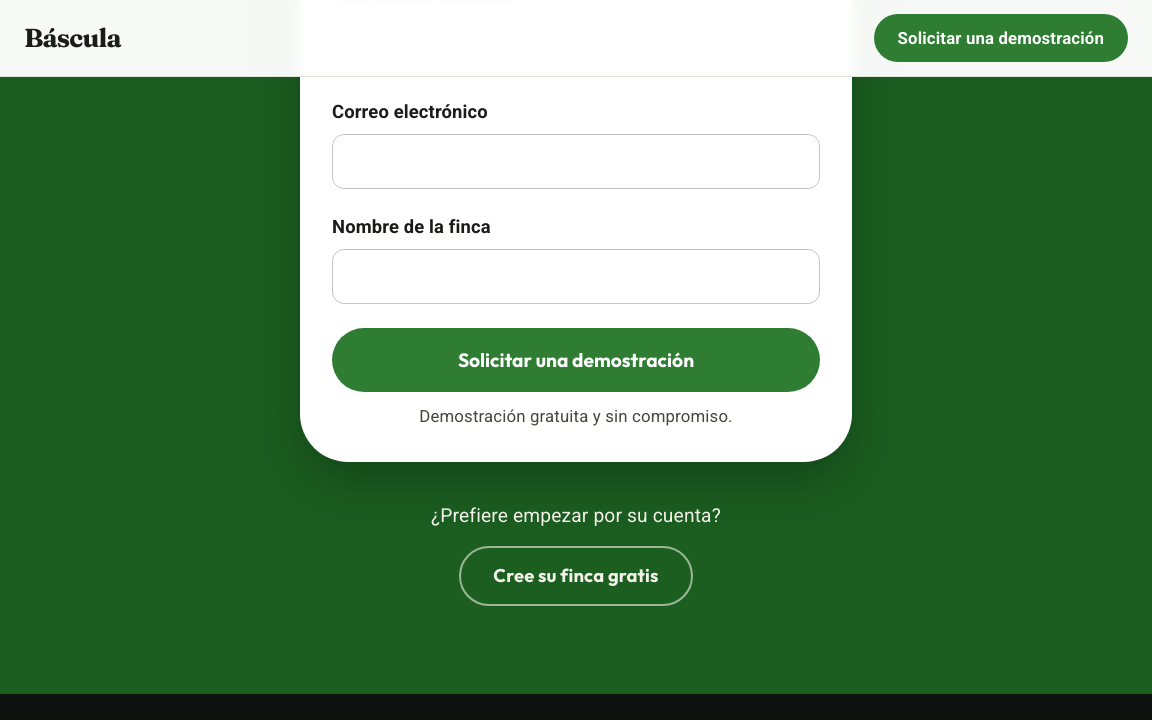
Test: LandingPage — screenshot and form › clears a field's error as soon as it is typed in
(page scrolled)
Click the button "Solicitar una demostración" at (576,360), box [332,328,820,392]
(page scrolled)
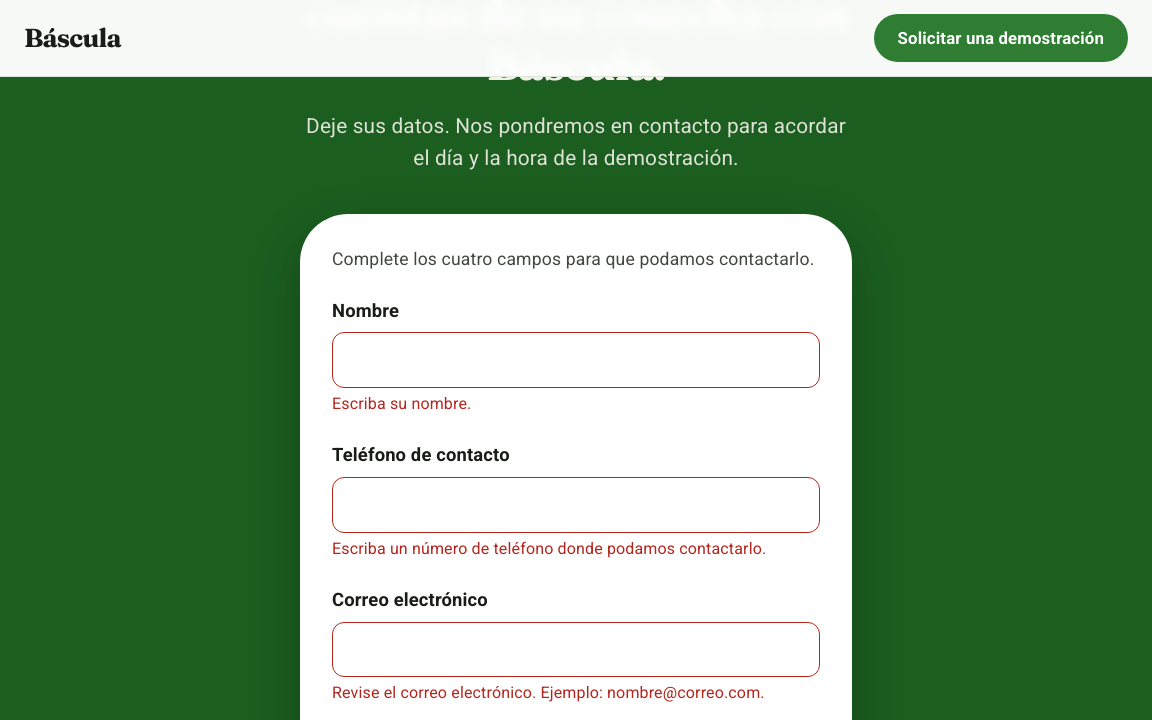
Expected: the text "Escriba su nombre." is shown, [332,394,471,413]
Type "A" into the field labelled "Nombre" at (576,360), box [332,332,820,388]
(page scrolled)
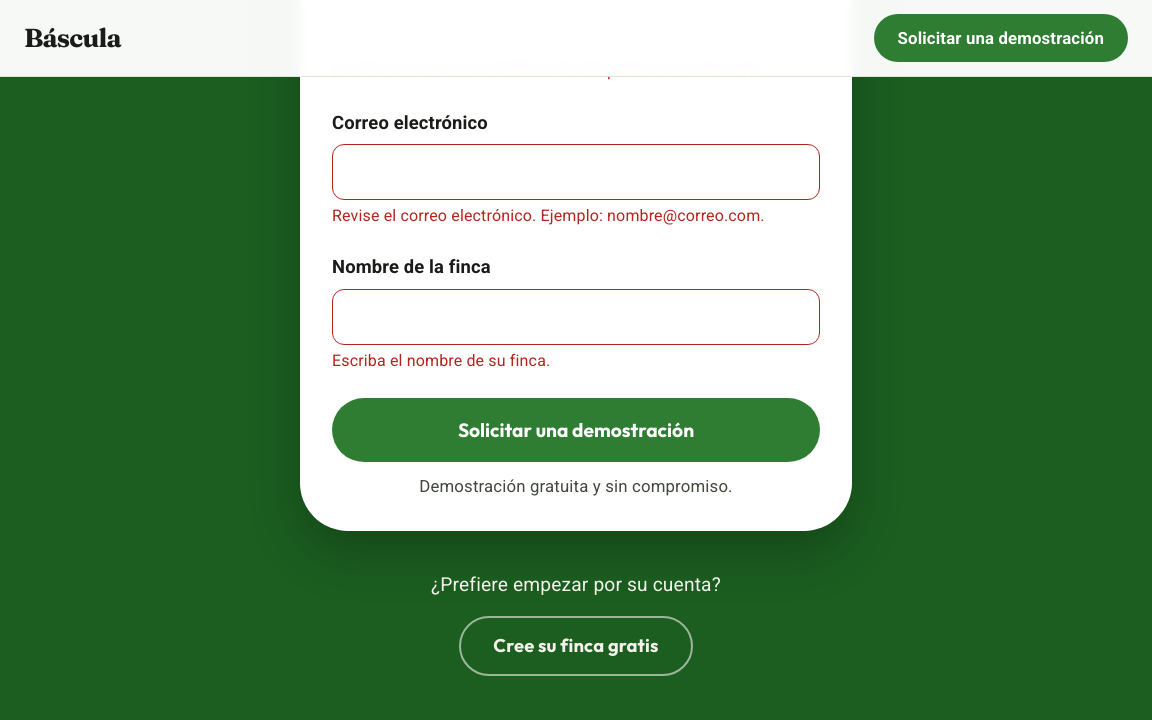
Expected: the text "Escriba el nombre de su finca." is shown, [332,350,550,370]
Expected: the text "Escriba su nombre." is gone
